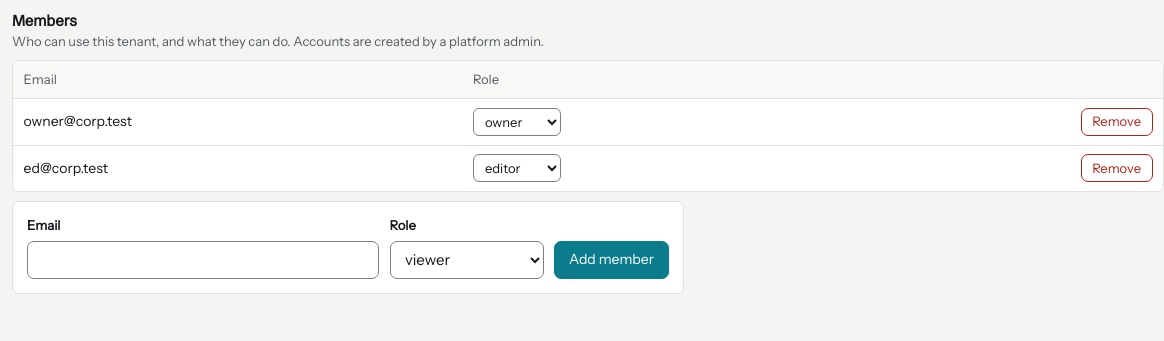
Test case: adds a member by email, and says plainly when no account has that email
This screenshot has width=1164, height=341.
Expected: the text "ed@corp.test" is shown, [13,144,462,191]
In the field labelled "Email": (203, 260) [27,240,379,279], type "new@corp.test"
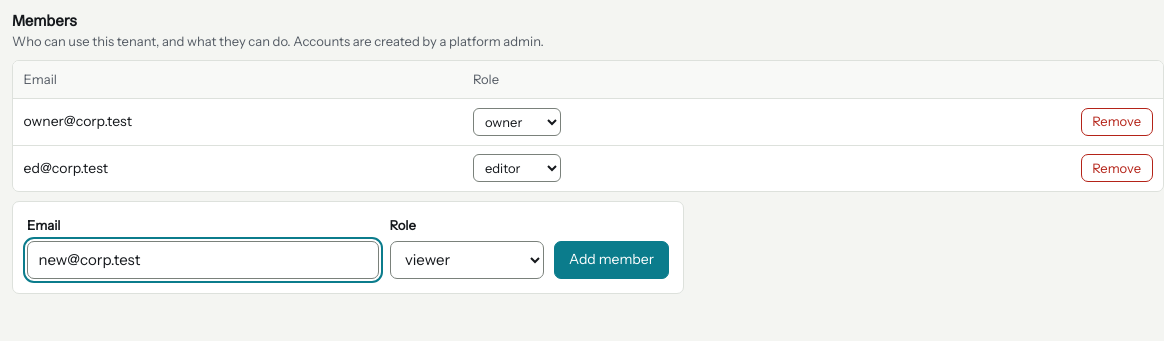
Select "operator" in the dropdown labelled "Role": (466, 260) [390,240,544,279]
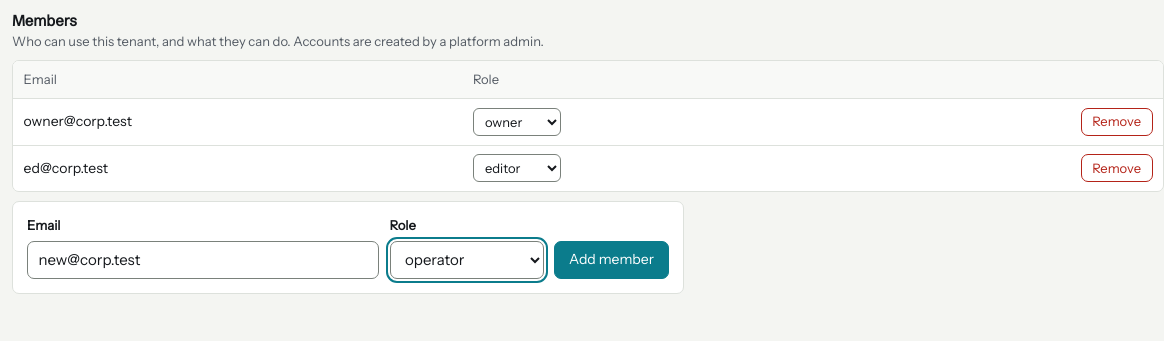
Click the button "Add member": (612, 260) [554,240,669,279]
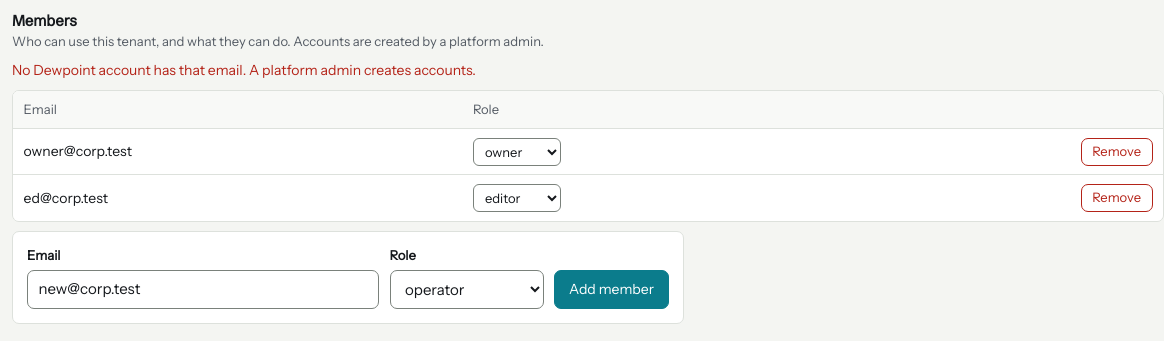
Result: the message shows "No Dewpoint account has that email" at [12,61,476,79]
